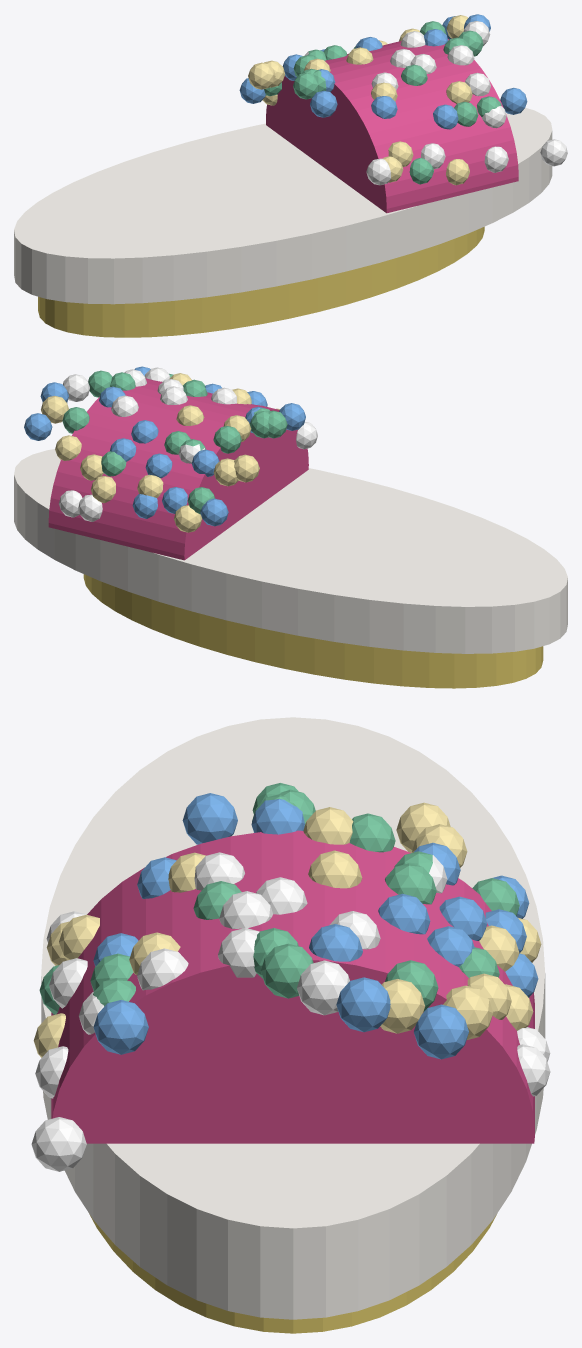
File: kasut-manik.glb
The picture shows the model from 3 angles, top to bottom: view 1: azimuth 30°, elevation 25°; view 2: azimuth 150°, elevation 25°; view 3: azimuth 270°, elevation 25°; orthographic projection. The views are drawn at different scales.
Parts seen in each view (by area): view 1: geometry_0, geometry_2, geometry_1, geometry_13, geometry_47, geometry_18, geometry_42, geometry_60, geometry_41, geometry_17, geometry_55, geometry_46 (+10 smaller); view 2: geometry_0, geometry_2, geometry_1, geometry_10, geometry_26, geometry_32, geometry_35, geometry_47, geometry_61, geometry_19, geometry_22, geometry_15 (+23 smaller); view 3: geometry_0, geometry_2, geometry_1, geometry_42, geometry_13, geometry_10, geometry_38, geometry_18, geometry_61, geometry_44, geometry_19, geometry_39 (+39 smaller).
Part boxes in pixels (bbox=[...]): geometry_0: bbox=[14, 108, 552, 304]; geometry_2: bbox=[266, 39, 518, 213]; geometry_1: bbox=[38, 226, 484, 337]; geometry_13: bbox=[540, 139, 567, 166]; geometry_47: bbox=[248, 62, 275, 89]; geometry_18: bbox=[310, 90, 337, 117]; geometry_42: bbox=[500, 87, 527, 114]; geometry_60: bbox=[293, 73, 317, 99]; geometry_41: bbox=[366, 158, 390, 185]; geometry_17: bbox=[484, 146, 508, 172]; geometry_55: bbox=[446, 159, 469, 185]; geometry_46: bbox=[433, 104, 458, 129]; geometry_0: bbox=[14, 449, 567, 653]; geometry_2: bbox=[48, 378, 308, 560]; geometry_1: bbox=[83, 574, 543, 688]; geometry_10: bbox=[24, 413, 52, 440]; geometry_26: bbox=[200, 498, 228, 526]; geometry_32: bbox=[213, 426, 241, 453]; geometry_35: bbox=[174, 505, 202, 532]; geometry_47: bbox=[234, 454, 259, 482]; geometry_61: bbox=[63, 374, 89, 401]; geometry_19: bbox=[41, 395, 68, 423]; geometry_22: bbox=[191, 449, 219, 476]; geometry_15: bbox=[91, 476, 115, 503]; geometry_0: bbox=[41, 717, 545, 1319]; geometry_2: bbox=[51, 830, 534, 1143]; geometry_1: bbox=[89, 1214, 496, 1333]; geometry_42: bbox=[93, 1000, 148, 1054]; geometry_13: bbox=[31, 1117, 86, 1171]; geometry_10: bbox=[414, 1004, 468, 1059]; geometry_38: bbox=[336, 977, 390, 1032]; geometry_18: bbox=[182, 793, 237, 844]; geometry_61: bbox=[297, 960, 349, 1015]; geometry_44: bbox=[260, 943, 313, 998]; geometry_19: bbox=[380, 979, 425, 1033]; geometry_39: bbox=[443, 985, 493, 1039].
Size of the model in its own units: 0.24 by 0.083 by 0.103.
